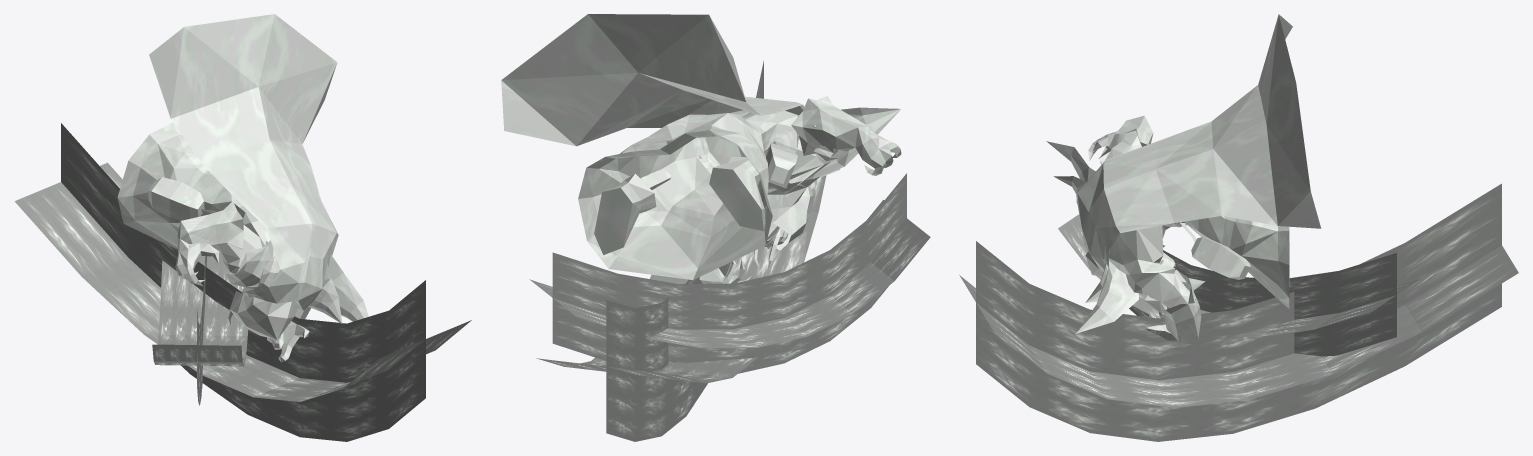
File: demon_gubingshouhuzhe_5.obj
The picture shows the model from 3 angles, left to right: view 1: azimuth 30°, elevation 25°; view 2: azimuth 150°, elevation 25°; view 3: azimuth 270°, elevation 25°; orthographic projection. The views are drawn at different scales.
Parts seen in each view (by area): view 1: Demon_Gubingshouhuzhe_5, Plane01, Plane02; view 2: Demon_Gubingshouhuzhe_5, Plane02, Plane01; view 3: Plane01, Demon_Gubingshouhuzhe_5, Plane02.
Boxes of the visible parts, x1,y1,x2,y2 form: Demon_Gubingshouhuzhe_5: (117,14,368,362); Plane01: (14,123,471,441); Plane02: (152,250,248,405); Demon_Gubingshouhuzhe_5: (501,14,901,283); Plane02: (529,173,930,373); Plane01: (536,60,826,441); Plane01: (959,183,1518,441); Demon_Gubingshouhuzhe_5: (1046,14,1321,341); Plane02: (1058,214,1420,356).
Size of the model in its own units: 171 by 221 by 281.
Materials: 2 (2 with a texture image).
